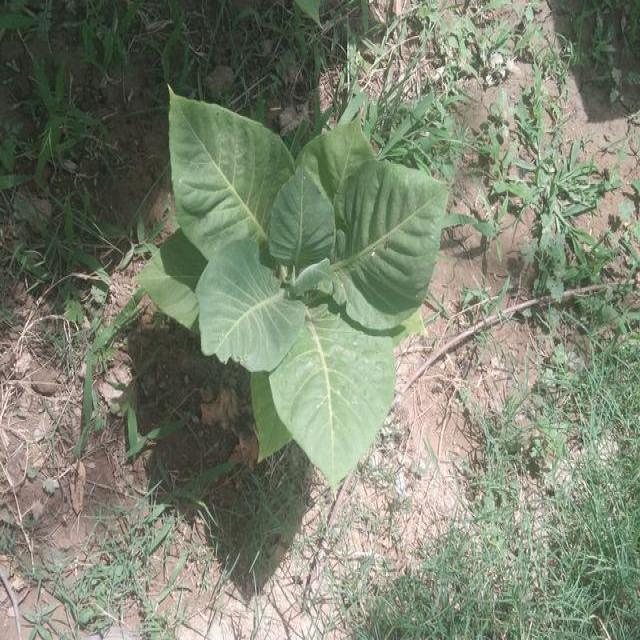crop: (140, 93, 450, 484)
